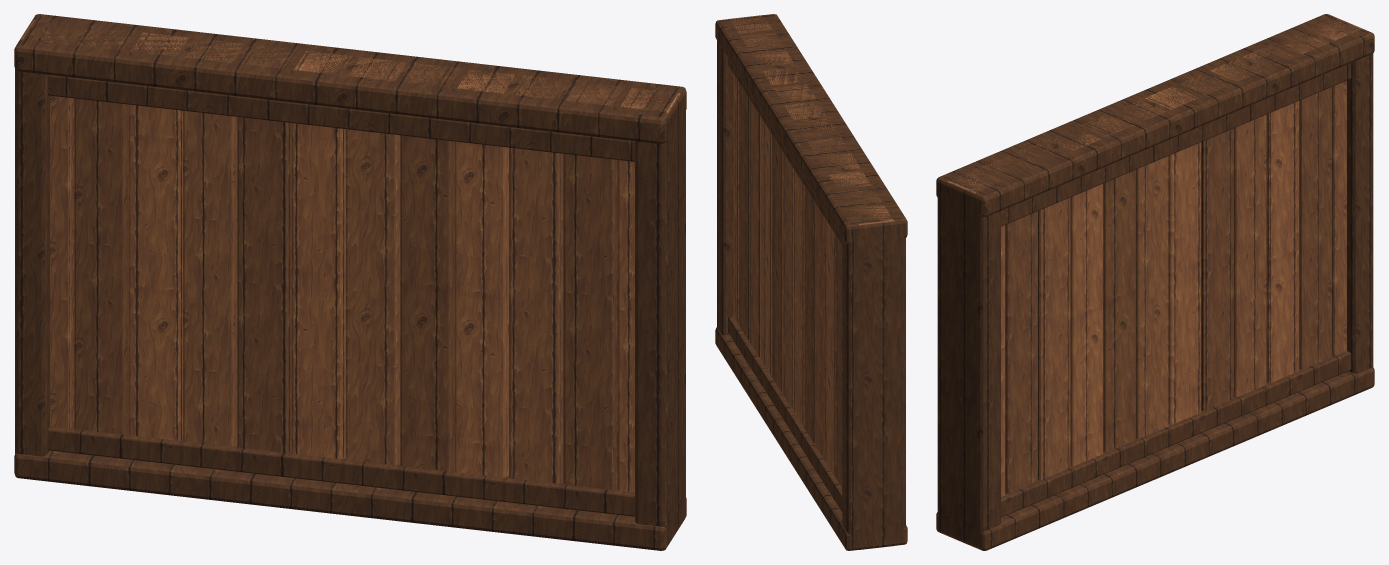
The model's file is wall_diagonal__plank_root.glb.
The picture shows the model from 3 angles, left to right: view 1: azimuth 30°, elevation 25°; view 2: azimuth 150°, elevation 25°; view 3: azimuth 270°, elevation 25°; orthographic projection. The views are drawn at different scales.
Visible parts, largest first — view 1: model; view 2: model; view 3: model.
Part boxes in pixels (bbox=[...]): model: bbox=[14, 14, 686, 550]; model: bbox=[715, 14, 907, 550]; model: bbox=[936, 14, 1374, 550].
Size of the model in its own units: 2.24 by 2 by 2.24.
7 materials, 7 textured.
